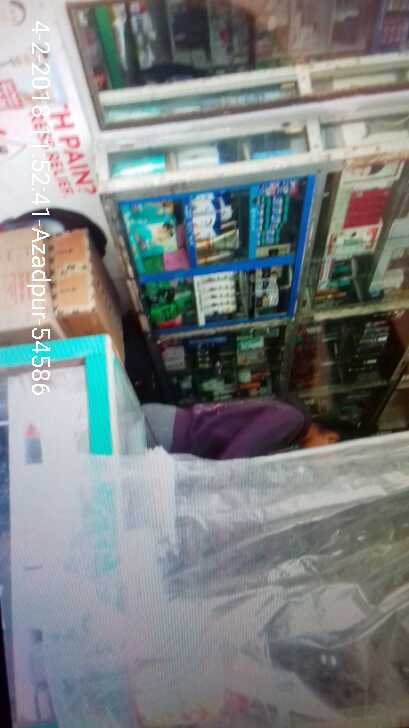vicks: (250, 181, 304, 254)
